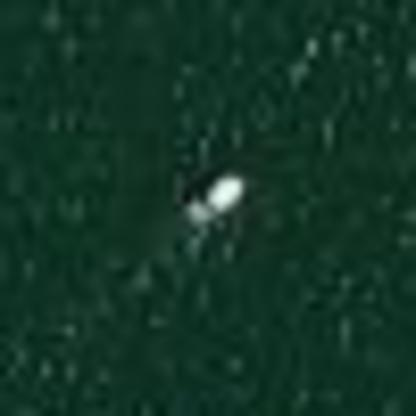ship: (177, 165, 255, 233)
